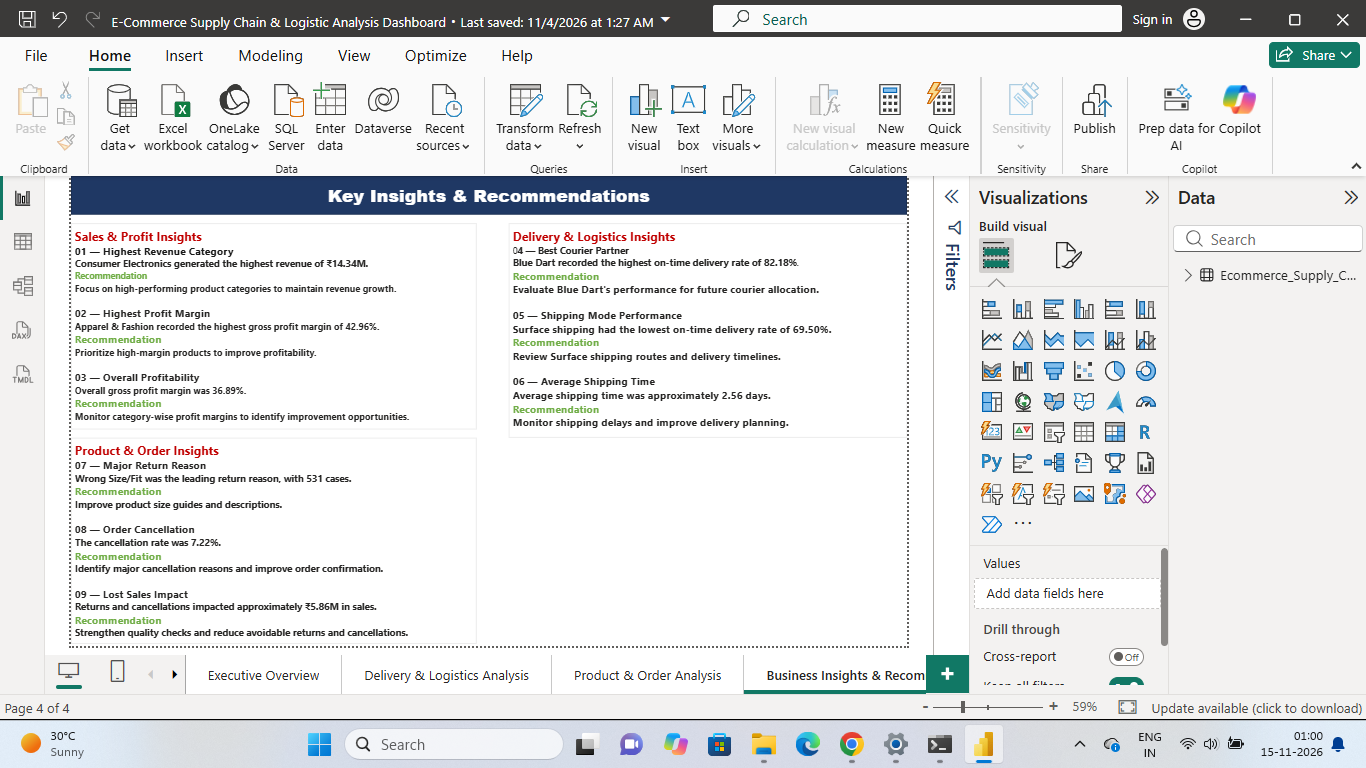

Layout of this report page (visuals, bound fields, positions):
{"tool":"powerbi","page":{"name":"Business Insights & Recommendations","canvas":[1280,720],"ordinal":3},"visuals":[{"type":"shape","box":[0,0,1279.8,58.9],"z":0},{"type":"textbox","box":[0,72.4,621.4,315],"z":1000},{"type":"textbox","box":[670.2,72.4,609.6,328.4],"z":2000},{"type":"textbox","box":[0,400.8,621.4,315],"z":3000}]}

Visuals, with their boxes on the page's 1280x720 design canvas (x1, y1, x2, y2). These are canvas units, not pixel positions in the 1366x768 screenshot, which may show the page scaled, cropped or inside an application window:
shape: {"left": 0, "top": 0, "right": 1280, "bottom": 59}
textbox: {"left": 0, "top": 72, "right": 621, "bottom": 387}
textbox: {"left": 670, "top": 72, "right": 1280, "bottom": 401}
textbox: {"left": 0, "top": 401, "right": 621, "bottom": 716}
